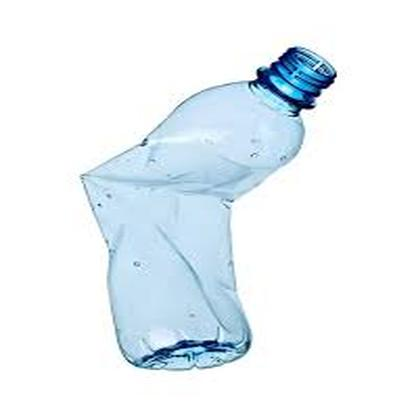plastic bottle: (77, 47, 338, 372)
